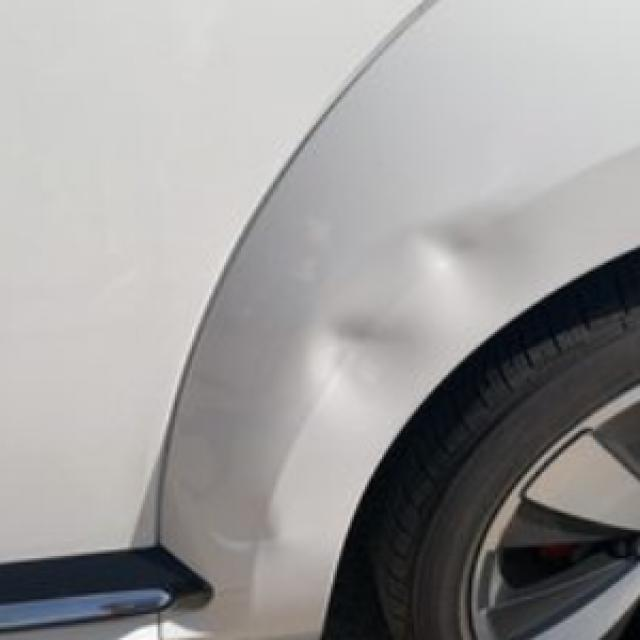dents: (308, 298, 425, 404), (376, 218, 524, 282)
